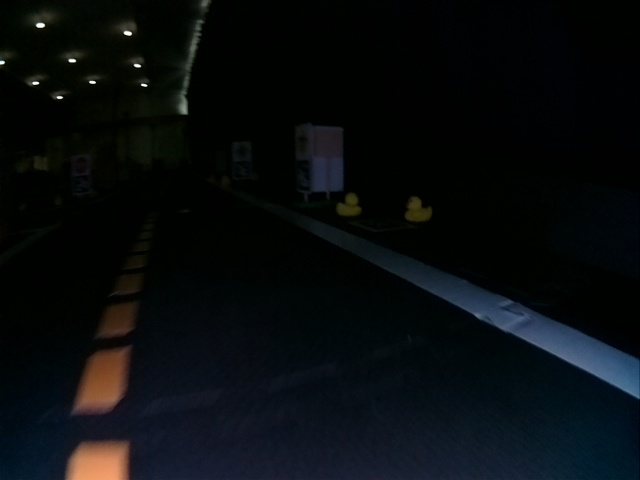Duckie: (336, 192, 362, 217), (405, 198, 430, 222), (220, 176, 230, 185)
Intersection sign: (295, 124, 311, 156), (235, 144, 250, 160)
QR code: (296, 161, 310, 189), (233, 161, 252, 178), (72, 177, 90, 191)
Stop sign: (74, 155, 89, 172)
